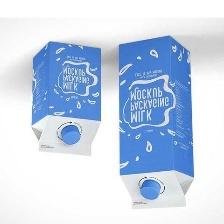carton: (115, 30, 209, 217), (29, 36, 104, 160)
